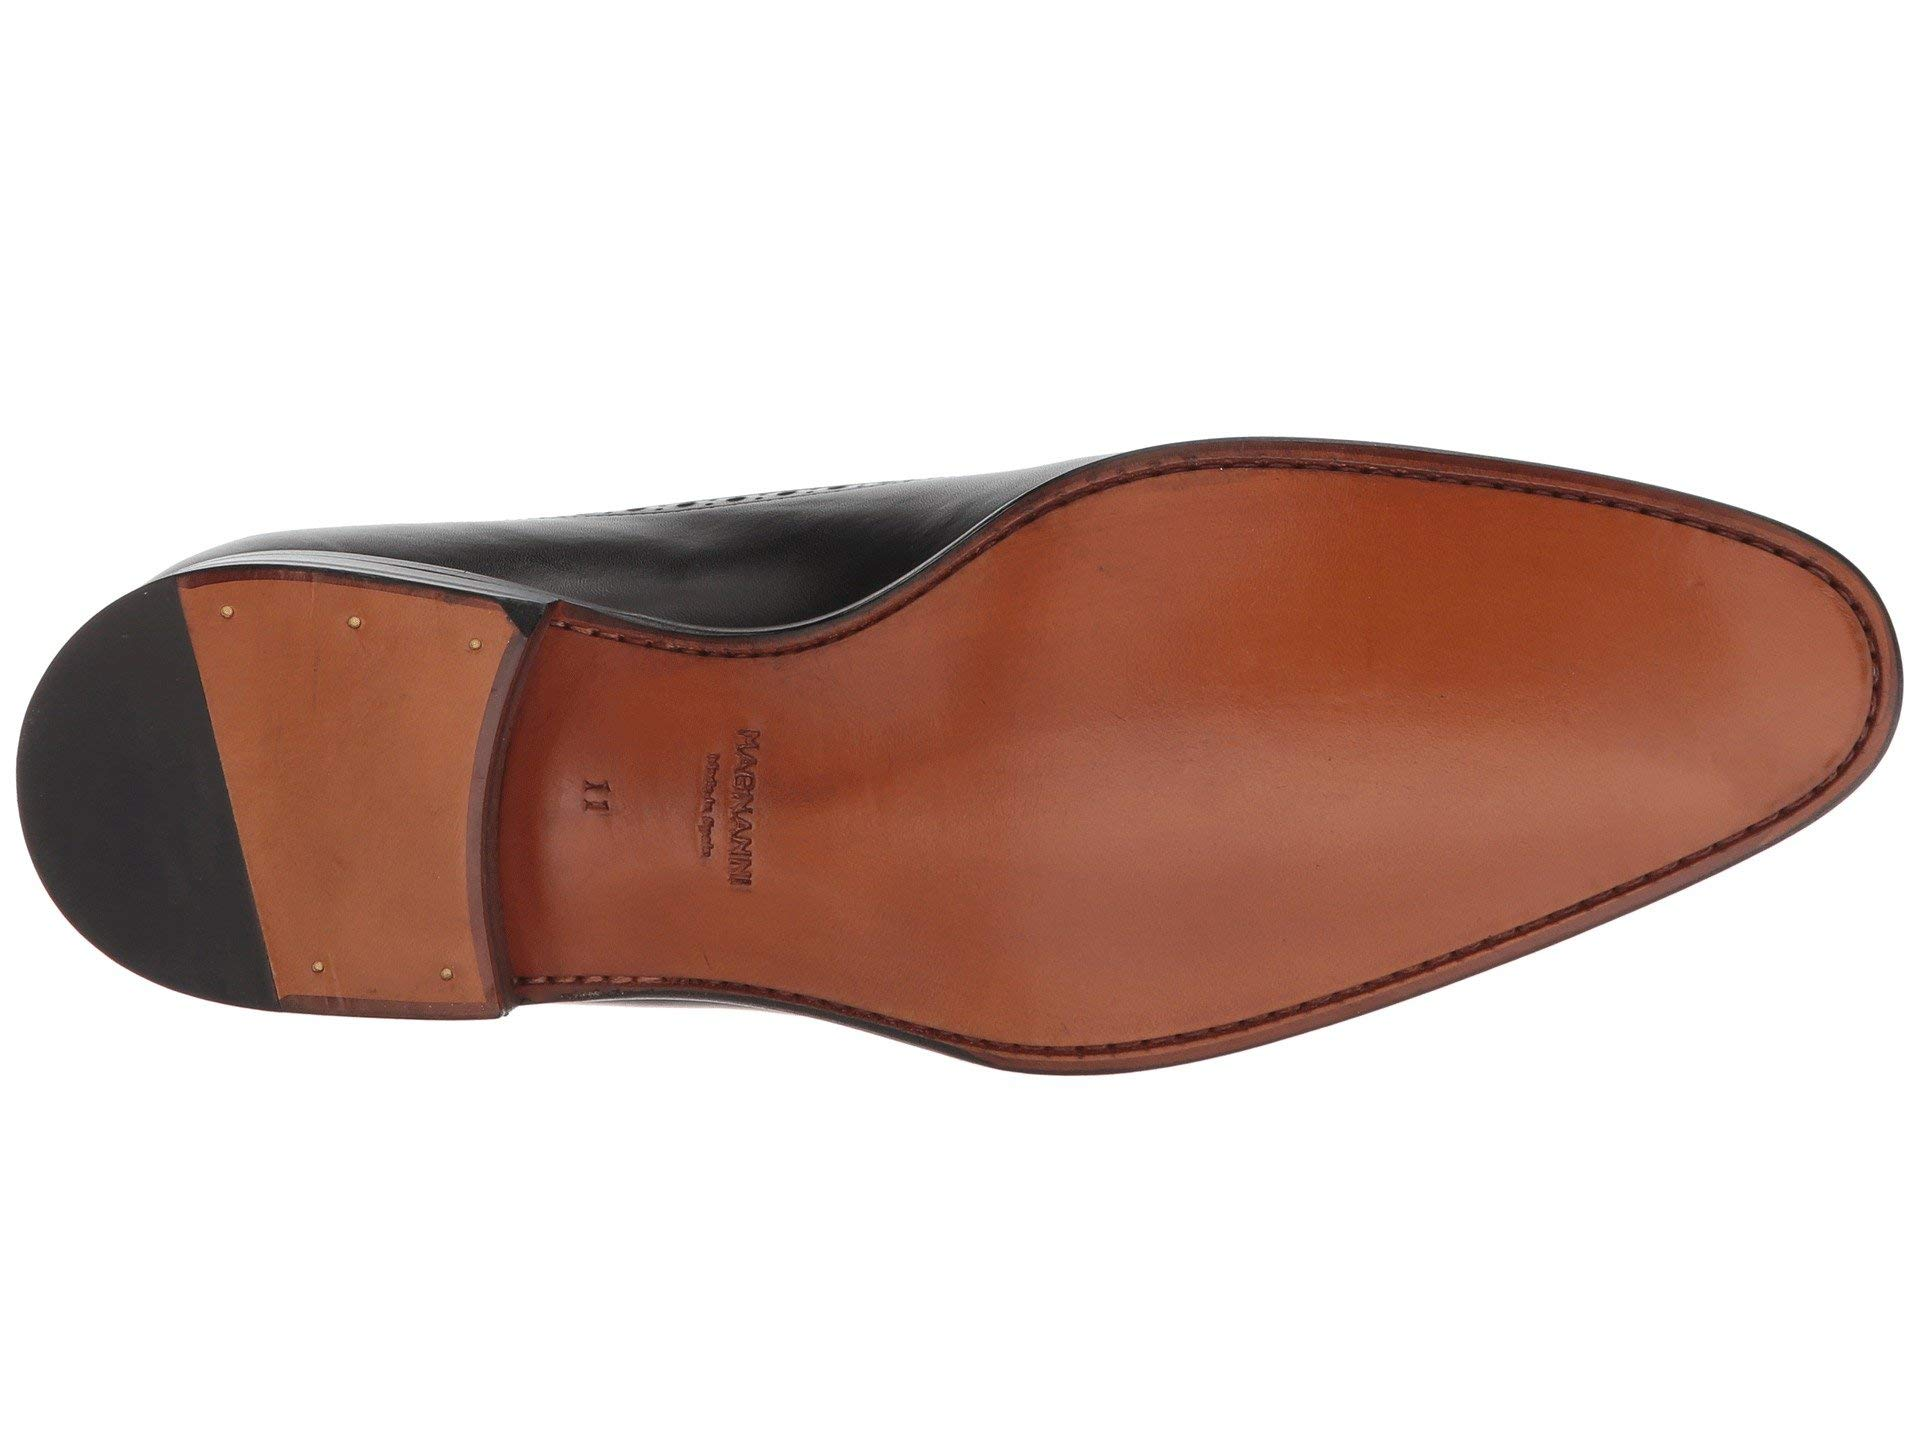circle: (200, 584, 491, 669)
text: (544, 629, 809, 942)
